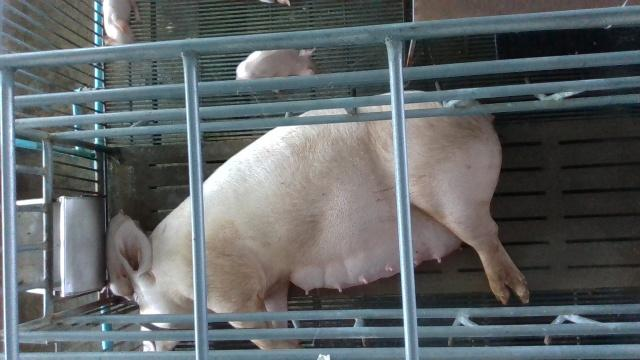piglet: (236, 47, 320, 80), (100, 0, 142, 46)
sow-sleep-lactate: (106, 90, 530, 351)
